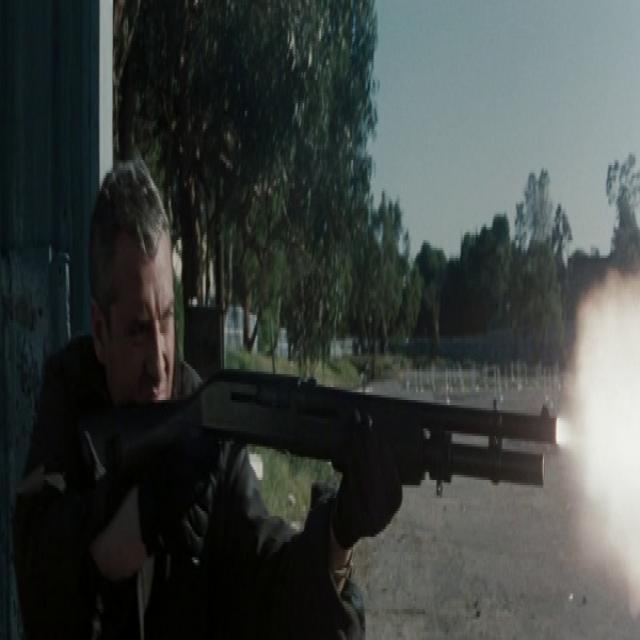rifle: (75, 365, 566, 559)
